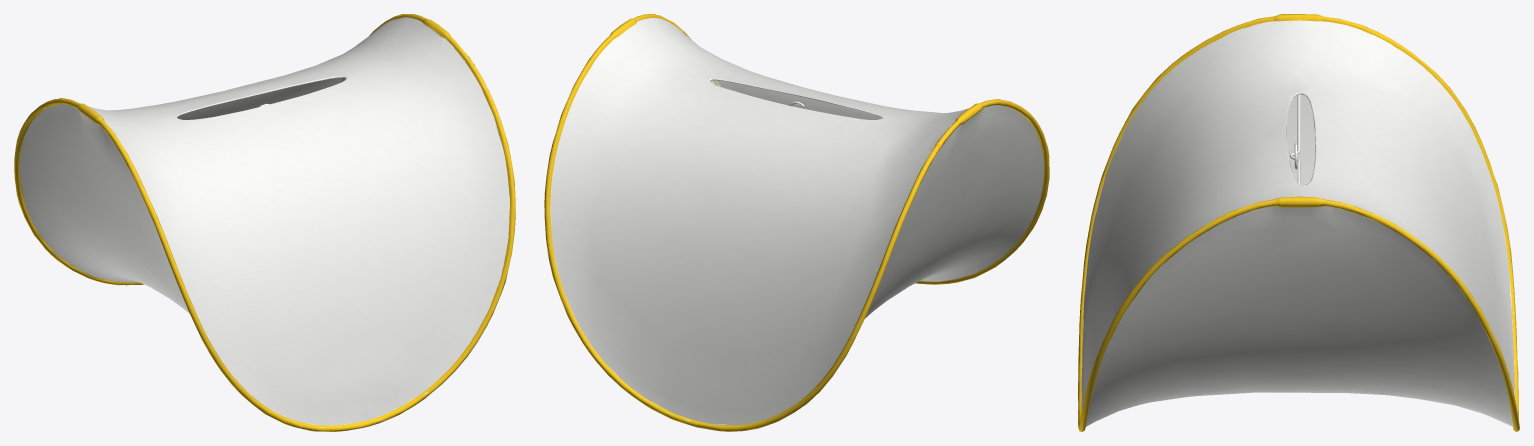
3 views of the same model, side by side, from view 1: azimuth 30°, elevation 25°; view 2: azimuth 150°, elevation 25°; view 3: azimuth 270°, elevation 25° (orthographic). The views are drawn at different scales.
Visible parts, largest first — view 1: ASY_ART_70603865_S01_NV01; view 2: ASY_ART_70603865_S01_NV01; view 3: ASY_ART_70603865_S01_NV01.
Part boxes in pixels (x1=…): ASY_ART_70603865_S01_NV01: x1=14, y1=14, x2=515, y2=431; ASY_ART_70603865_S01_NV01: x1=544, y1=14, x2=1049, y2=431; ASY_ART_70603865_S01_NV01: x1=1078, y1=14, x2=1519, y2=431.
Bounding box in the file's own units: 0.4609 × 0.355 × 0.4588.
Materials: 1 (1 with a texture image).
